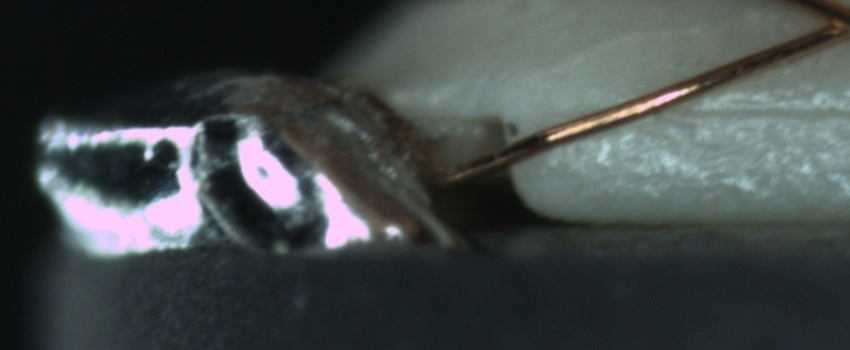CL: (804, 3, 850, 44)
DL: (633, 82, 850, 141)
